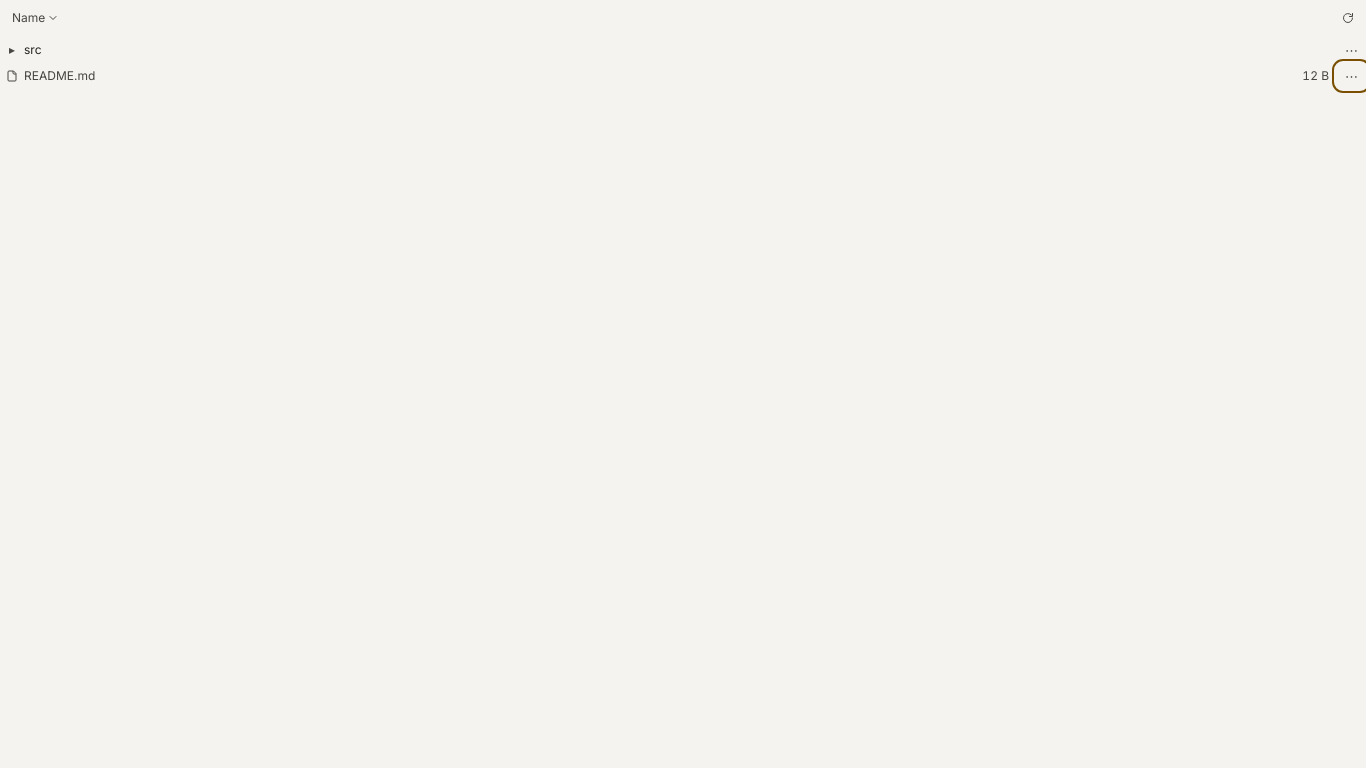
Test: FilesFileActions › a confirmed delete that takes its row parks focus on the panel
Click the 2nd button with class "workspace-tree-menu-trigger". click: (1352, 76)
box: [1337, 64, 1365, 88]
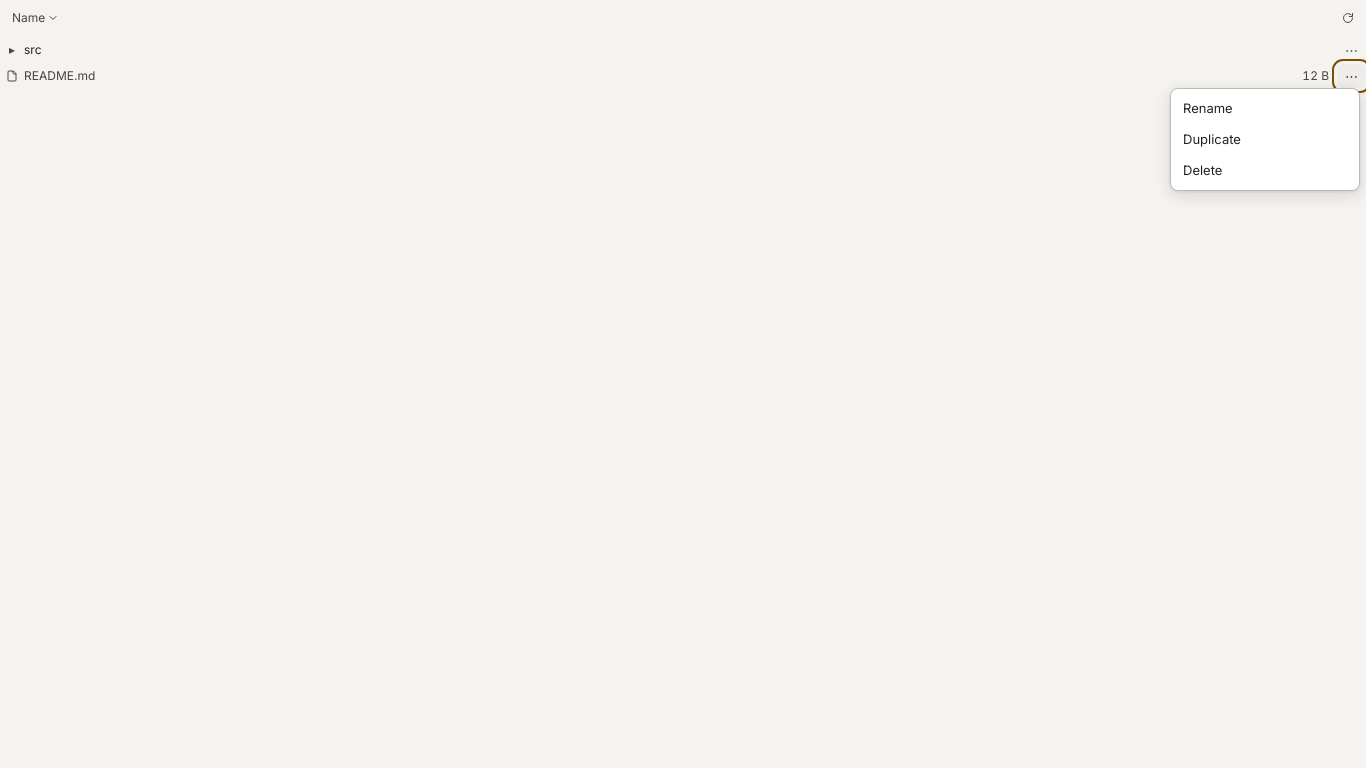
Click the menu item "Delete". click: (1265, 170)
box: [1175, 155, 1355, 186]
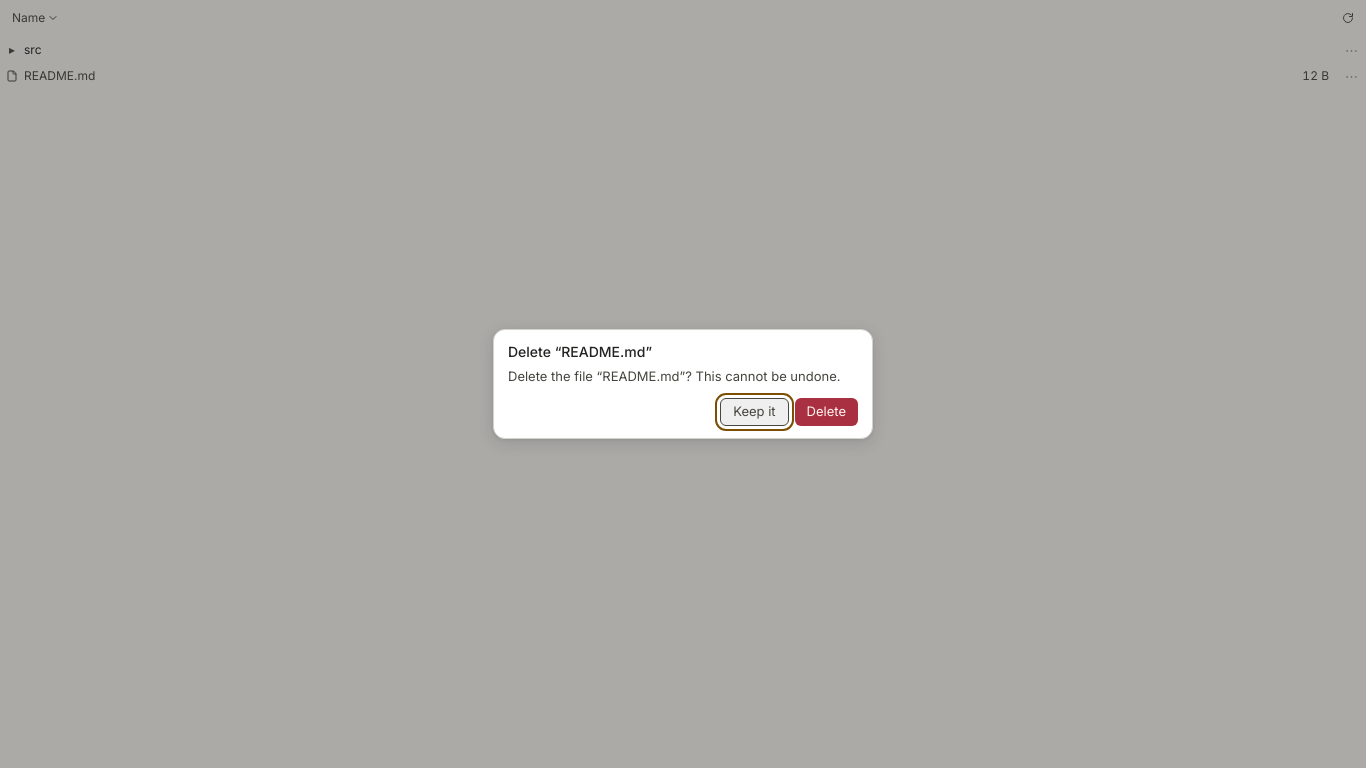
Click the button with class "confirm-dialog-confirm". click: (826, 412)
box: [795, 398, 858, 426]
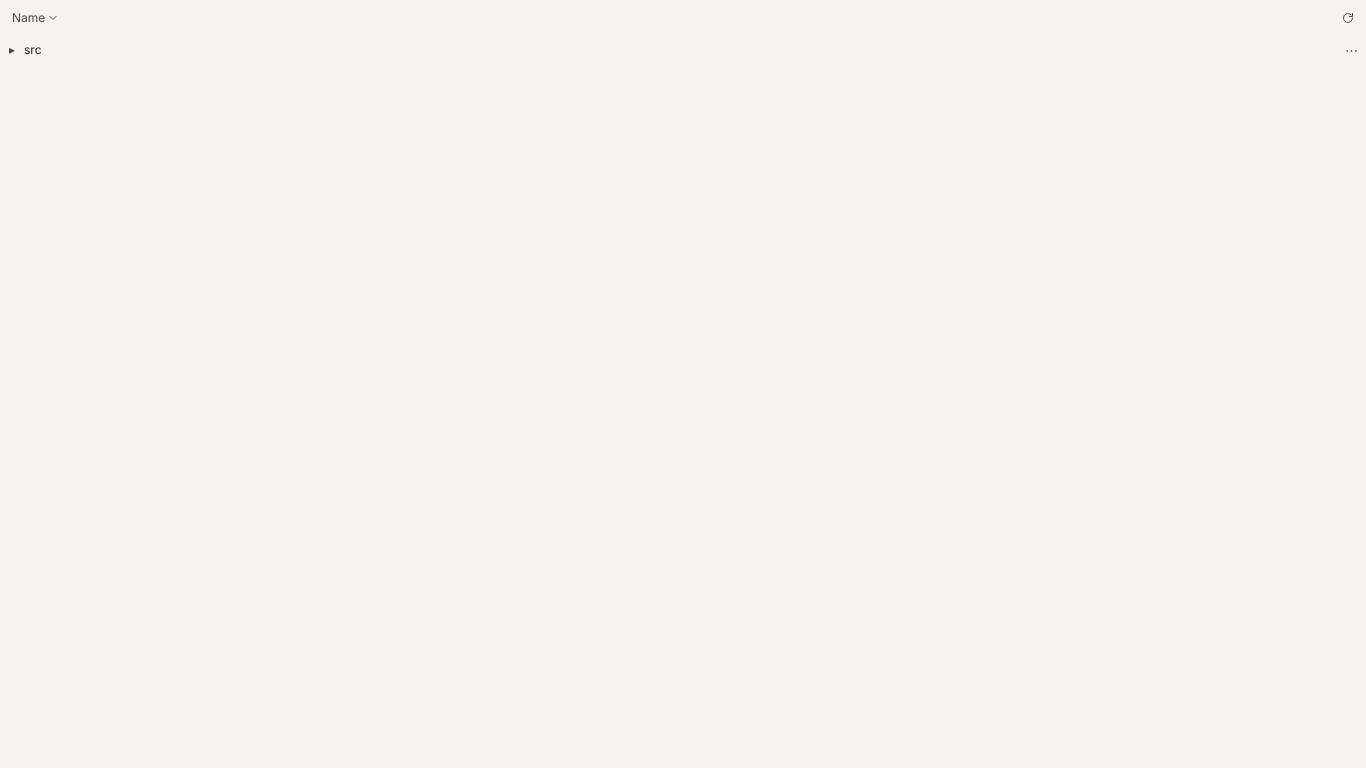
Check: the element with class "workspace-files" is shown, box [0, 0, 1365, 62]
Check: the text "README.md" is gone
Check: the dialog with class "confirm-dialog" is gone
